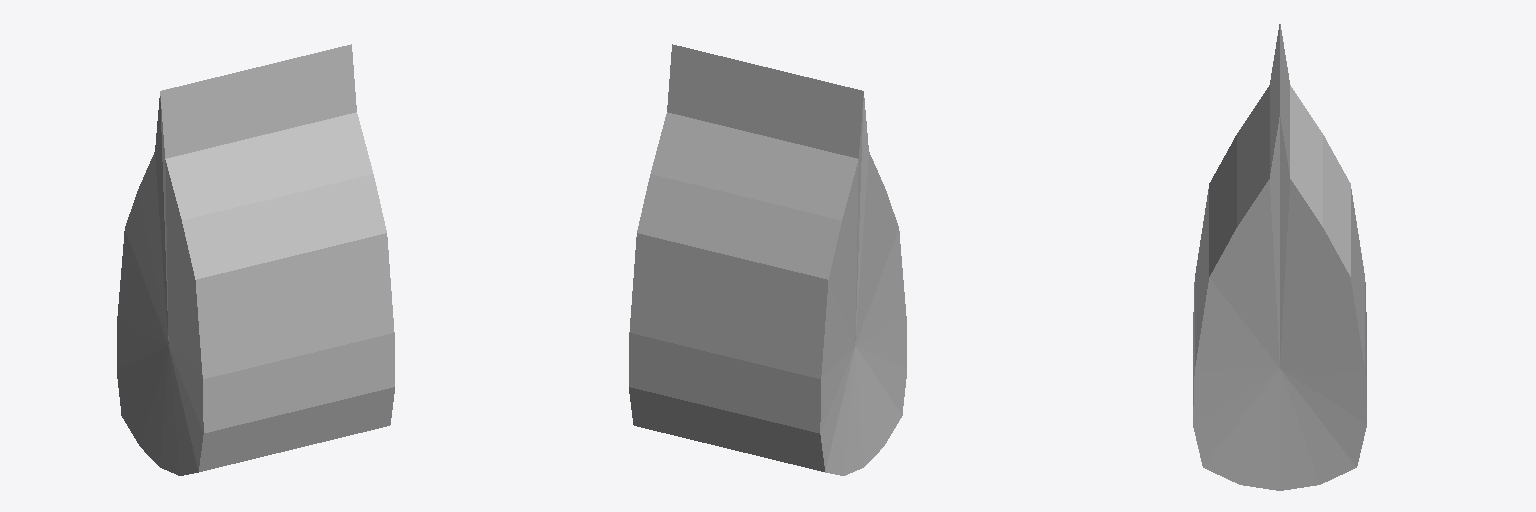
Rendered from reditos.obj.
3 renders of one model, left to right at view 1: azimuth 30°, elevation 25°; view 2: azimuth 150°, elevation 25°; view 3: azimuth 270°, elevation 25°, orthographic.
Parts seen in each view (by area): view 1: pCube1; view 2: pCube1; view 3: pCube1.
Part boxes in pixels (left/top/right/bottom): pCube1: left=117, top=44, right=394, bottom=475; pCube1: left=629, top=44, right=906, bottom=475; pCube1: left=1193, top=24, right=1366, bottom=490.
Bounding box in the file's own units: 0.5302 × 0.9955 × 0.4173.